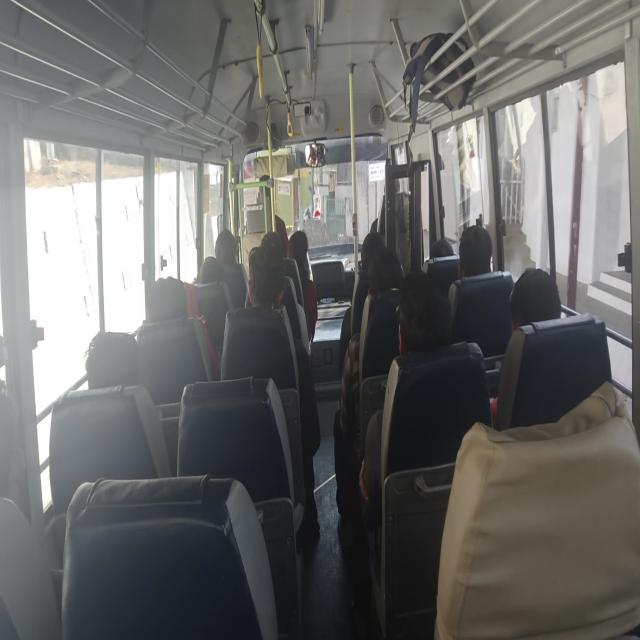person: (502, 260, 574, 345), (398, 276, 456, 361), (1, 378, 32, 532), (82, 322, 143, 389), (145, 268, 197, 323), (457, 224, 502, 284), (246, 244, 284, 310), (364, 244, 408, 296), (286, 216, 316, 266), (428, 228, 460, 270), (194, 258, 231, 292), (373, 168, 409, 200), (216, 225, 241, 268), (356, 224, 384, 261), (258, 222, 290, 250), (255, 171, 278, 208)
